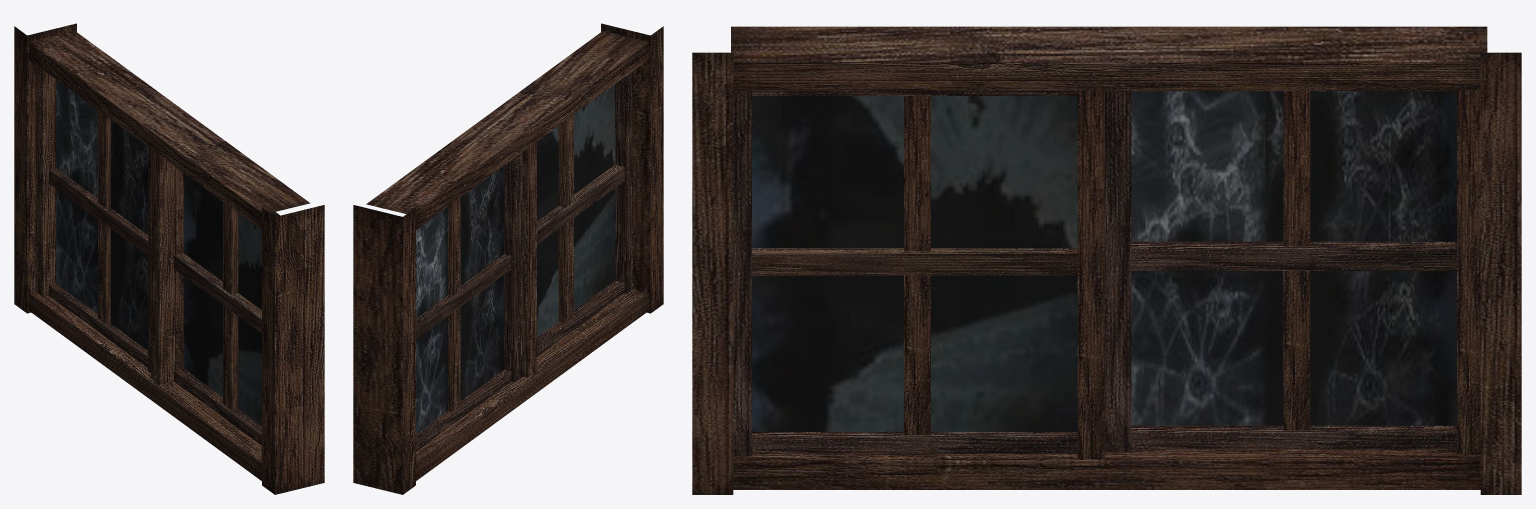
File: caen_window_brown_broken_2.glb
The picture shows the model from 3 angles, left to right: view 1: azimuth 30°, elevation 25°; view 2: azimuth 150°, elevation 25°; view 3: azimuth 270°, elevation 25°; orthographic projection. The views are drawn at different scales.
Size of the model in its own units: 7.98 by 42.72 by 72.59.
1 material, 1 textured.
